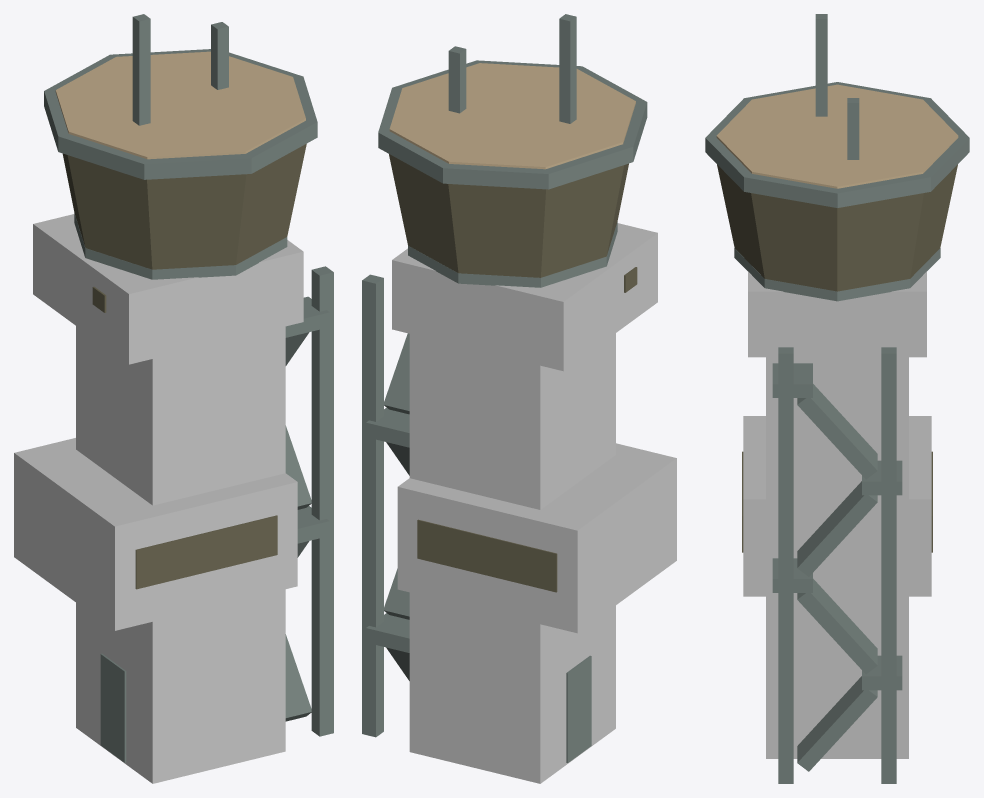
The model's file is SM_TorreControl_v4_LOD1.fbx.
3 views of the same model, side by side, from view 1: azimuth 30°, elevation 25°; view 2: azimuth 150°, elevation 25°; view 3: azimuth 270°, elevation 25° (orthographic). The views are drawn at different scales.
Visible parts, largest first — view 1: SM_torre_control_v4_LOD1; view 2: SM_torre_control_v4_LOD1; view 3: SM_torre_control_v4_LOD1.
Boxes of the visible parts, x1,y1,x2,y2 form: SM_torre_control_v4_LOD1: [14, 14, 333, 783]; SM_torre_control_v4_LOD1: [362, 14, 676, 783]; SM_torre_control_v4_LOD1: [705, 14, 969, 783].
Bounding box in the file's own units: 5.9 × 17.01 × 5.9.
